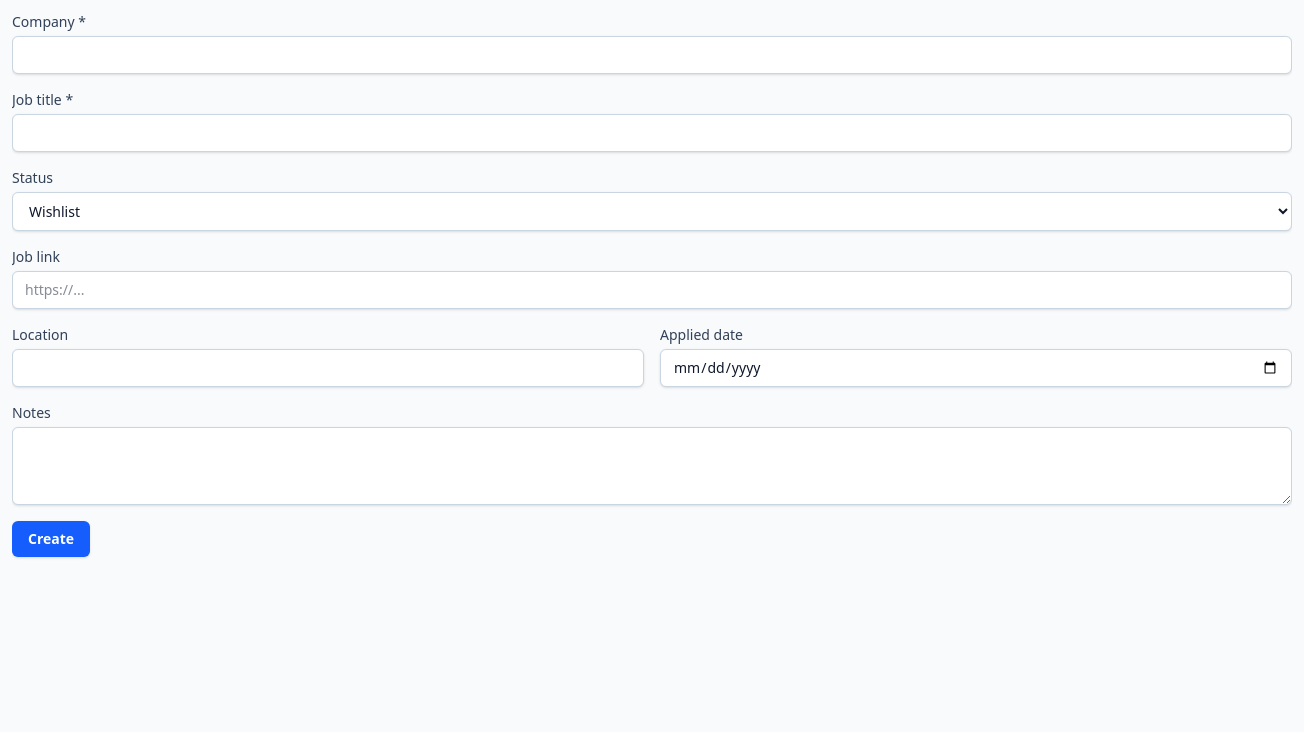
Test: ApplicationForm › rejects a job link that is not http(s)
Type "Acme" into the field labelled "Company *". click: [652, 55]
box: top-left (12, 36), bottom-right (1292, 74)
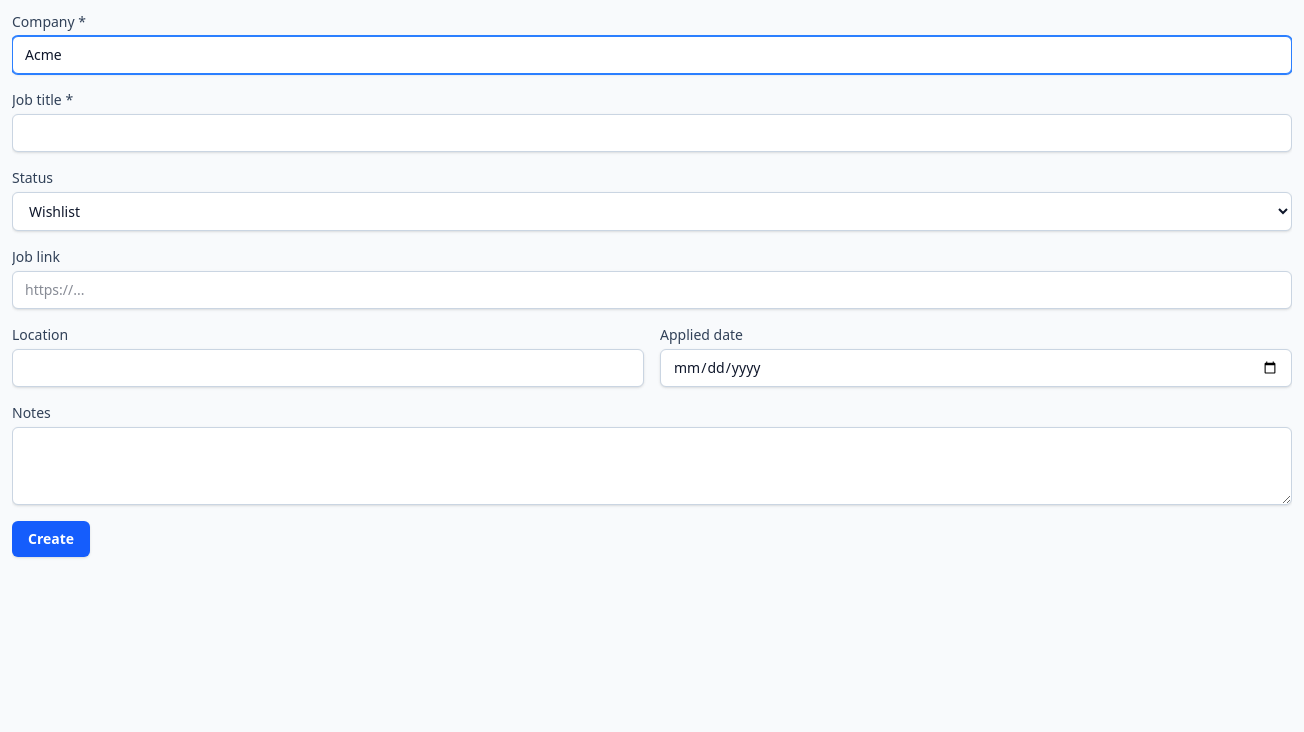
Type "Dev" into the field labelled "Job title *". click: [652, 133]
box: top-left (12, 114), bottom-right (1292, 152)
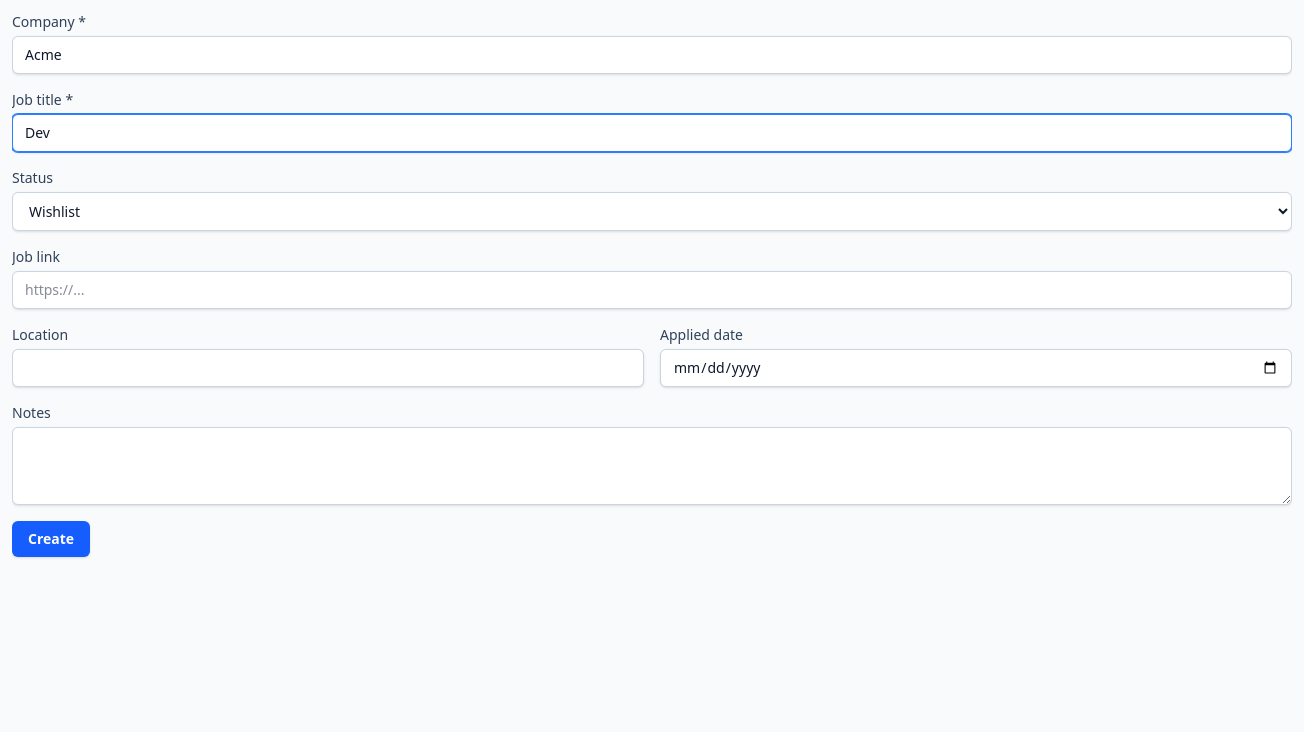
Type "javascript:alert(1)" into the field labelled "Job link". click: [652, 290]
box: top-left (12, 271), bottom-right (1292, 309)
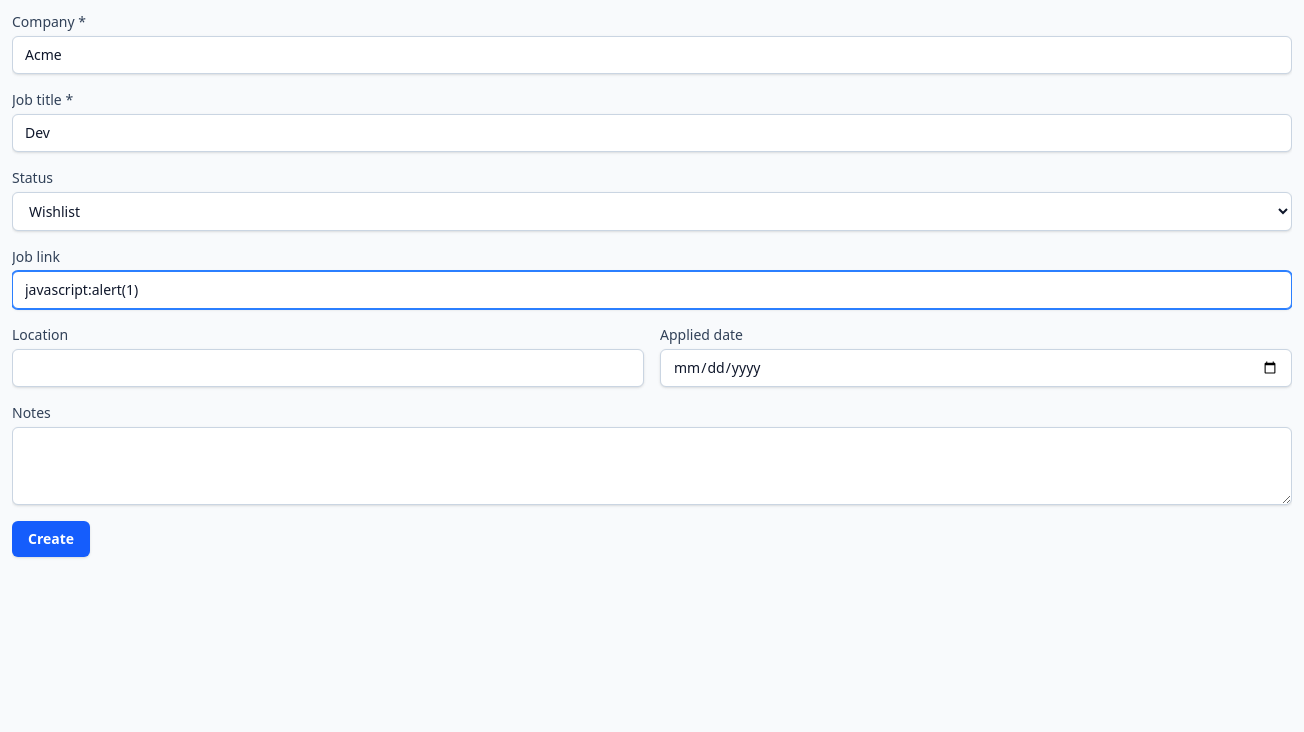
Click the button "Create". click: [51, 539]
box: top-left (12, 521), bottom-right (90, 557)
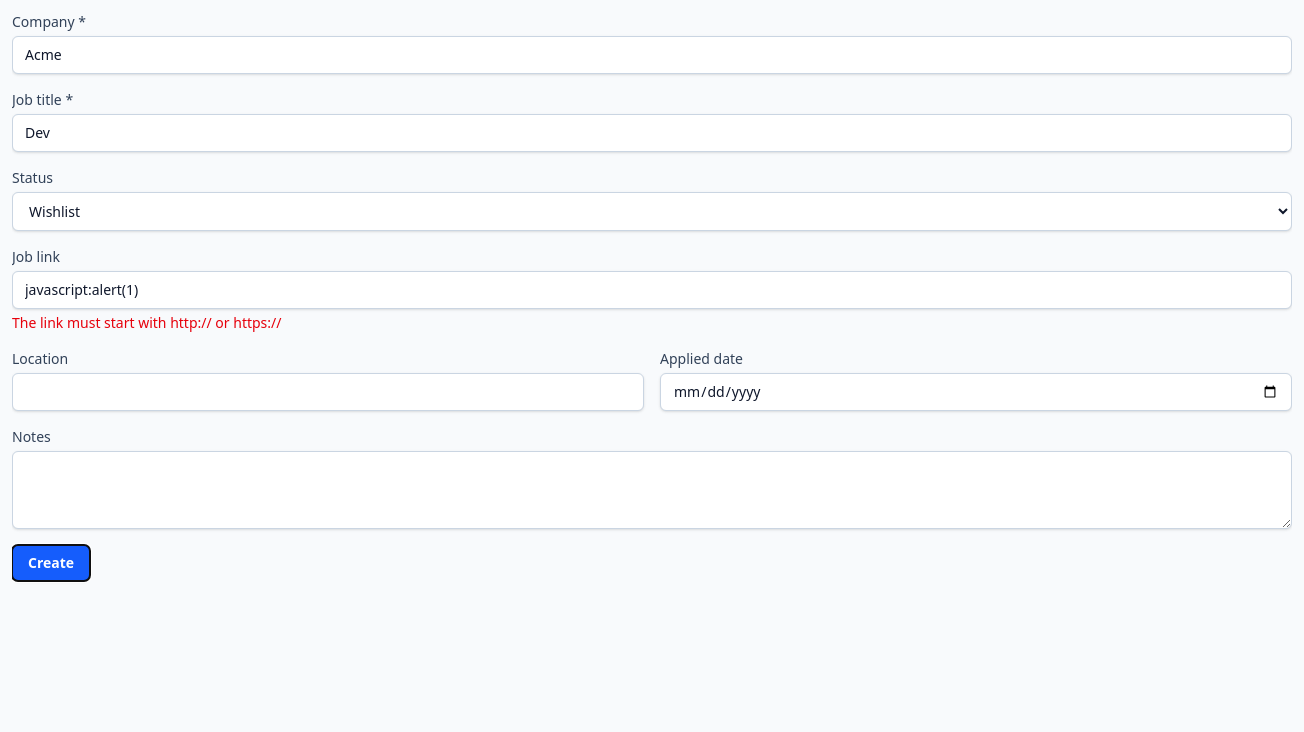
Expected: the text "The link must start with http:// or https://" is shown, top-left (12, 313), bottom-right (282, 332)
